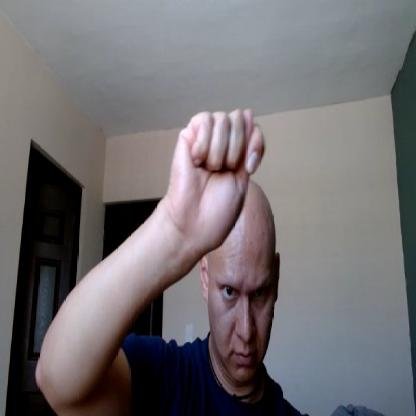T: (168, 107, 265, 239)
